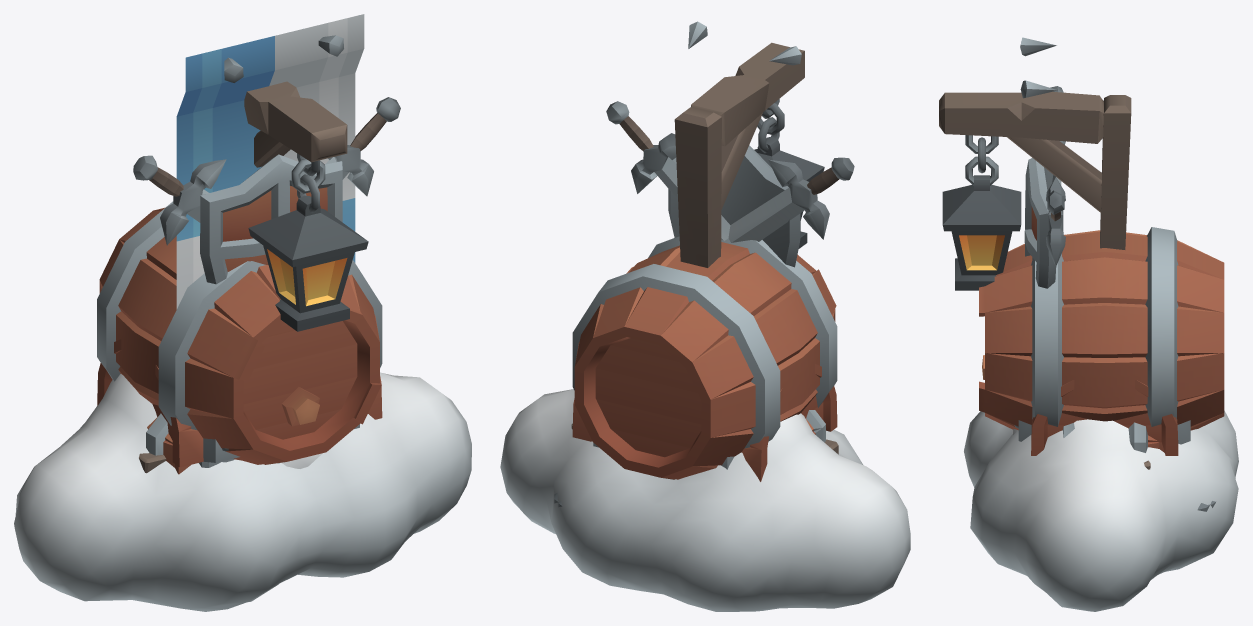
File: meydan.glb
3 views of the same model, side by side, from view 1: azimuth 30°, elevation 25°; view 2: azimuth 150°, elevation 25°; view 3: azimuth 270°, elevation 25° (orthographic). The views are drawn at different scales.
Parts seen in each view (by area): view 1: cloud_big, keg, banner_patternA_blue, banner_shield_blue, post_lantern_lantern, Cube.124, chest_lid, barrel_small_stack; view 2: cloud_big, keg, Cube.124, banner_shield_blue, chest_lid, post_lantern_lantern; view 3: keg, cloud_big, Cube.124, post_lantern_lantern, banner_shield_blue, chest_lid, barrel_small_stack, banner_patternA_blue.
Boxes of the visible parts, <box> form: cloud_big: <box>14,372,471,611</box>; keg: <box>97,201,382,464</box>; banner_patternA_blue: <box>176,14,364,309</box>; banner_shield_blue: <box>133,35,400,284</box>; post_lantern_lantern: <box>248,153,368,331</box>; Cube.124: <box>244,81,347,167</box>; chest_lid: <box>97,339,382,467</box>; barrel_small_stack: <box>146,413,174,467</box>; cloud_big: <box>500,389,910,611</box>; keg: <box>572,236,837,479</box>; Cube.124: <box>674,42,804,267</box>; banner_shield_blue: <box>606,23,854,267</box>; chest_lid: <box>572,364,837,481</box>; post_lantern_lantern: <box>754,99,824,248</box>; keg: <box>979,227,1224,430</box>; cloud_big: <box>964,410,1238,611</box>; Cube.124: <box>939,91,1131,249</box>; post_lantern_lantern: <box>942,135,1021,290</box>; banner_shield_blue: <box>1020,46,1065,288</box>; chest_lid: <box>1014,380,1190,455</box>; barrel_small_stack: <box>1062,422,1159,452</box>; banner_patternA_blue: <box>1020,37,1056,98</box>.
Size of the model in its own units: 3.61 by 4.64 by 2.44.
Materials: 5 (5 with a texture image).
